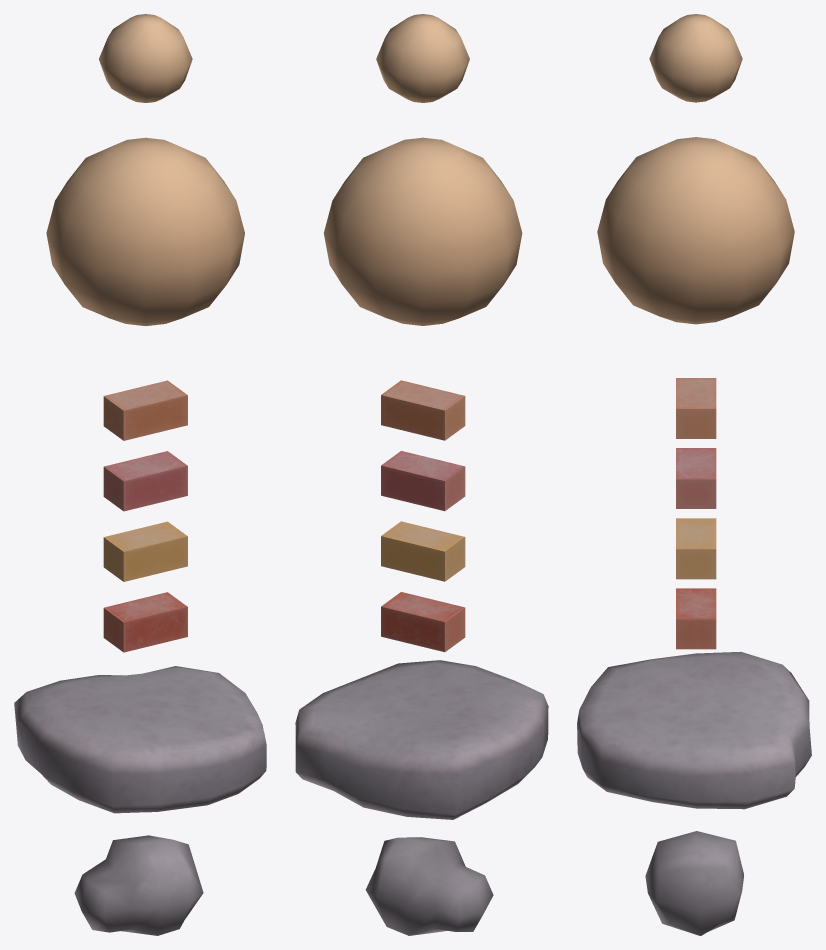
File: Debris.fbx
3 renders of one model, left to right at view 1: azimuth 30°, elevation 25°; view 2: azimuth 150°, elevation 25°; view 3: azimuth 270°, elevation 25°, orthographic.
Visible parts, largest first — view 1: Debris_Large, Smoke_Puff_Large, Debris_Small, Smoke_Puff_Small, Debris_Brick_Red, Debris_Brick_Yellow, Debris_Brick_Pink, Debris_Brick_Orange; view 2: Debris_Large, Smoke_Puff_Large, Debris_Small, Smoke_Puff_Small, Debris_Brick_Orange, Debris_Brick_Yellow, Debris_Brick_Pink, Debris_Brick_Red; view 3: Debris_Large, Smoke_Puff_Large, Debris_Small, Smoke_Puff_Small, Debris_Brick_Yellow, Debris_Brick_Red, Debris_Brick_Orange, Debris_Brick_Pink.
Boxes of the visible parts, x1,y1,x2,y2 form: Debris_Large: (14, 666, 266, 813); Smoke_Puff_Large: (46, 137, 244, 326); Debris_Small: (74, 835, 203, 935); Smoke_Puff_Small: (99, 14, 192, 102); Debris_Brick_Red: (103, 592, 187, 652); Debris_Brick_Yellow: (103, 521, 187, 581); Debris_Brick_Pink: (103, 451, 187, 511); Debris_Brick_Orange: (103, 380, 187, 440); Debris_Large: (295, 660, 548, 819); Smoke_Puff_Large: (324, 137, 522, 325); Debris_Small: (365, 837, 493, 935); Smoke_Puff_Small: (376, 14, 469, 102); Debris_Brick_Orange: (381, 380, 465, 440); Debris_Brick_Yellow: (381, 521, 465, 581); Debris_Brick_Pink: (381, 451, 465, 511); Debris_Brick_Red: (381, 592, 465, 652); Debris_Large: (577, 651, 811, 809); Smoke_Puff_Large: (597, 137, 794, 324); Debris_Small: (645, 831, 743, 935); Smoke_Puff_Small: (649, 14, 742, 102); Debris_Brick_Yellow: (676, 518, 716, 579); Debris_Brick_Red: (676, 588, 716, 649); Debris_Brick_Orange: (676, 378, 716, 438); Debris_Brick_Pink: (676, 448, 716, 508).
Bounding box in the file's own units: 101 × 422 × 99.
